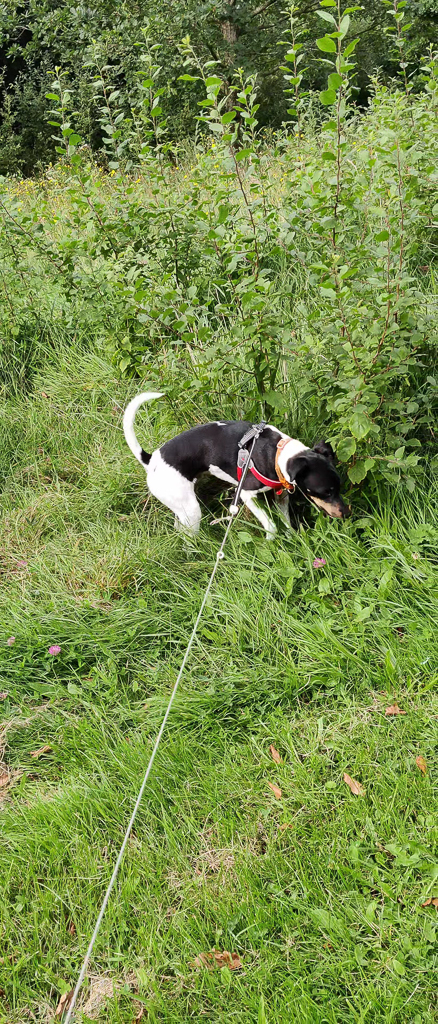Dog: (113, 381, 362, 563)
